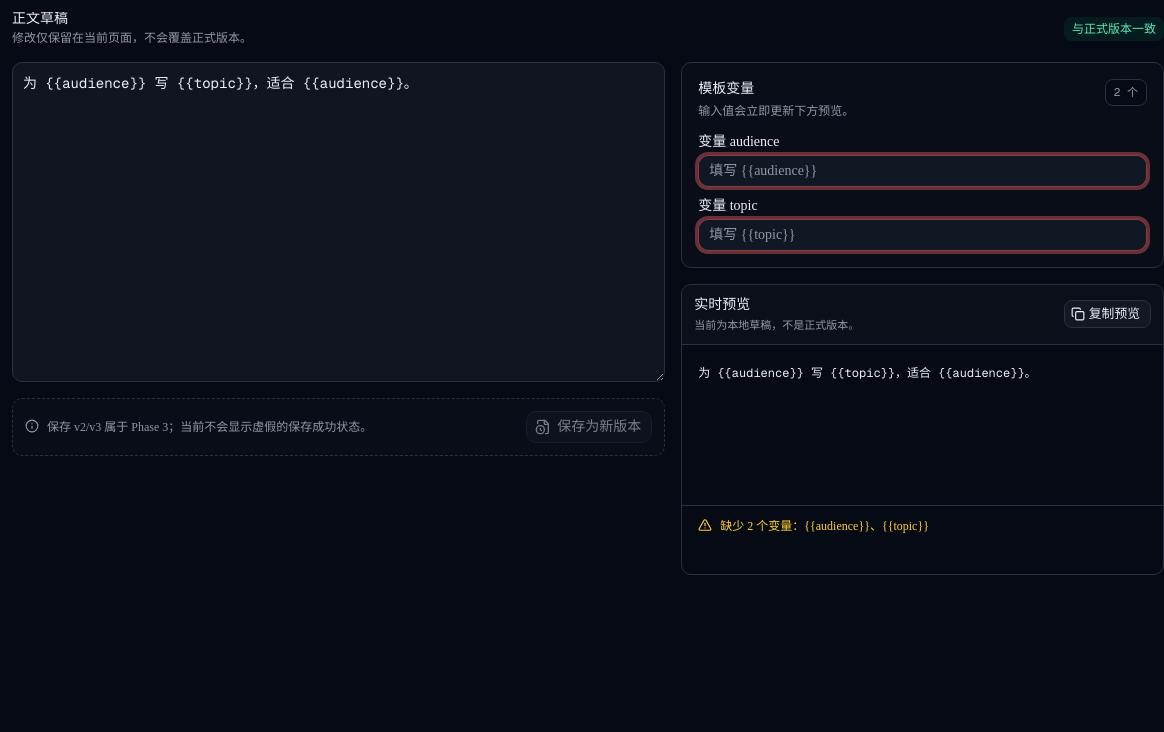
Test: PromptDraftEditor › renders one input per unique variable and updates the preview
This screenshot has width=1164, height=732.
Expected: the text "缺少 2 个变量：{{audience}}、{{topic}}" is shown, x1=720 y1=516 x2=929 y2=536
Type "开发者" into the field labelled "变量 audience" at (923, 171), box x1=698 y1=155 x2=1147 y2=187
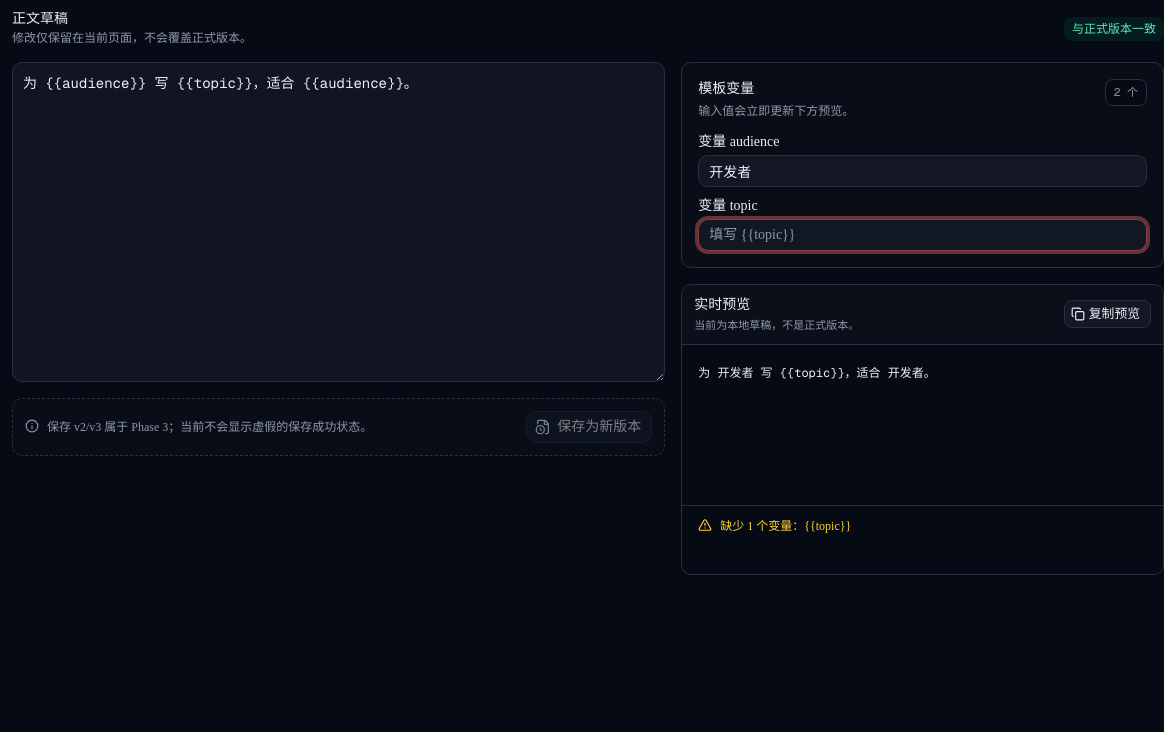
Type "发布说明" into the field labelled "变量 topic" at (923, 235), box x1=698 y1=219 x2=1147 y2=251
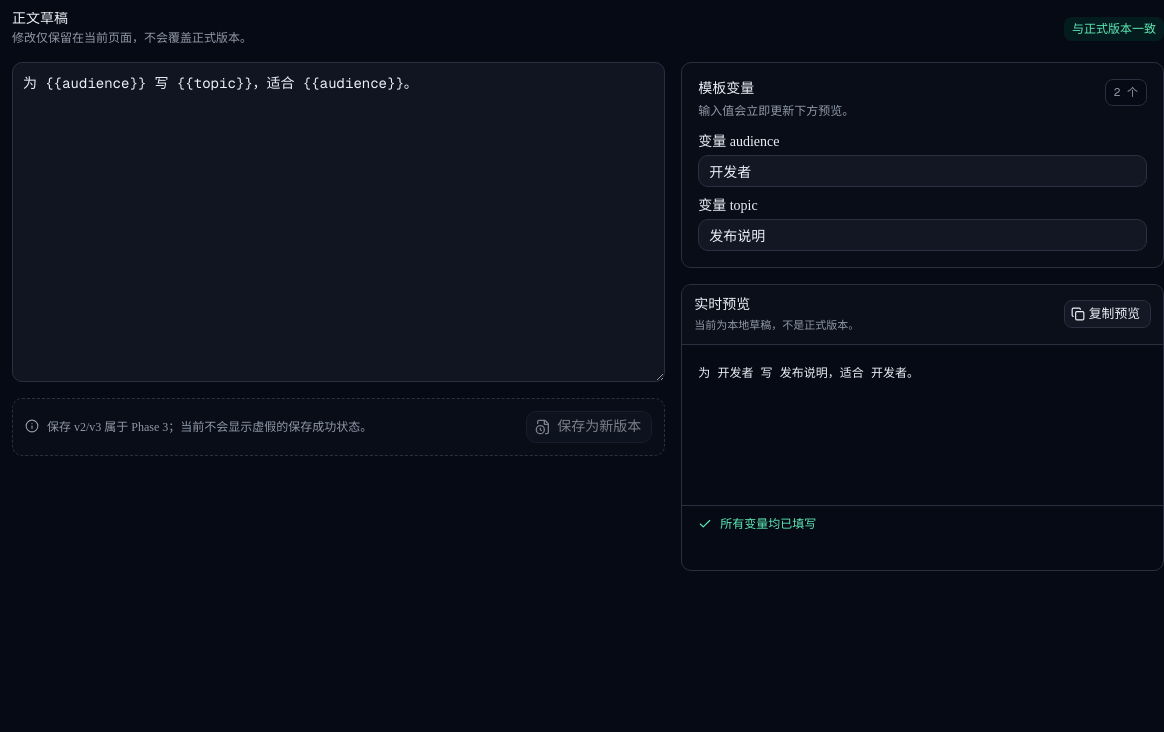
Expected: the text with test id "rendered-prompt" reads "为 开发者 写 发布说明，适合 开发者。", x1=698 y1=364 x2=919 y2=380
Expected: the text "所有变量均已填写" is shown, x1=698 y1=516 x2=816 y2=530
